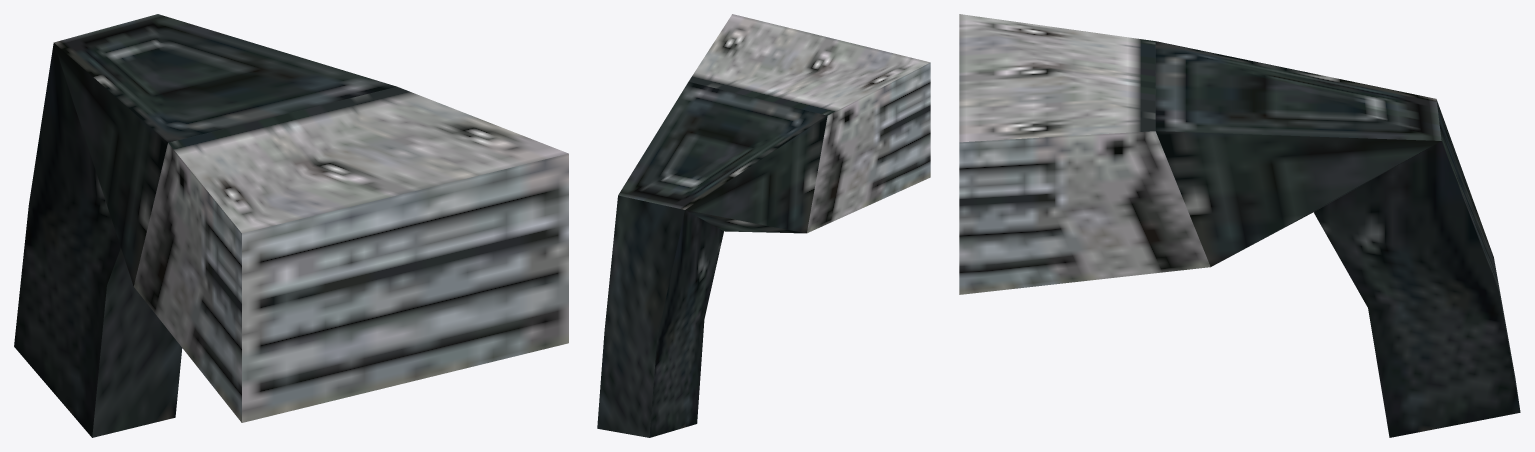
Rendered from eqp_survey_fusion_l1.fbx.
The picture shows the model from 3 angles, left to right: view 1: azimuth 30°, elevation 25°; view 2: azimuth 150°, elevation 25°; view 3: azimuth 270°, elevation 25°; orthographic projection. The views are drawn at different scales.
Visible parts, largest first — view 1: mesh_node; view 2: mesh_node; view 3: mesh_node.
Boxes of the visible parts, box(x1,y1,x2,y2) form: mesh_node: box(14, 14, 568, 437); mesh_node: box(597, 14, 930, 437); mesh_node: box(959, 14, 1520, 437).
Size of the model in its own units: 0.1605 by 0.2012 by 0.2965.
